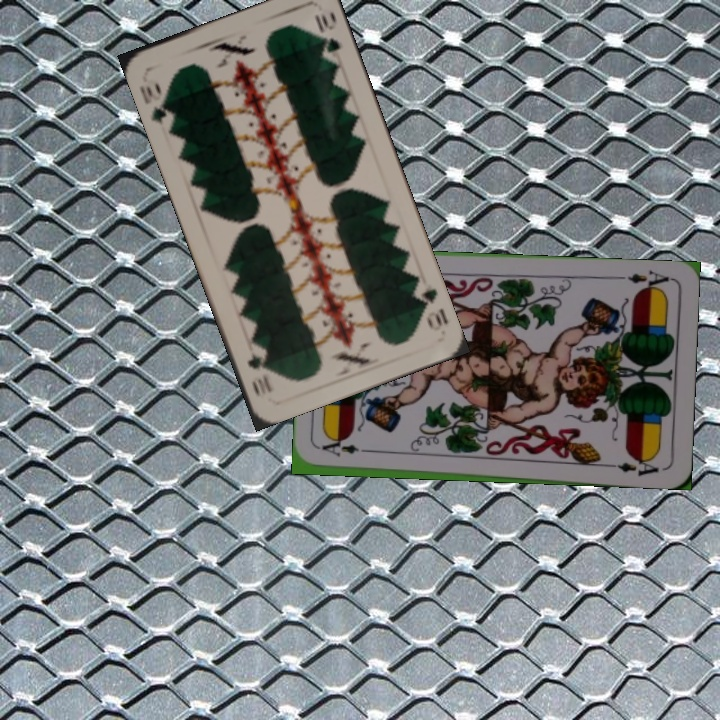EA: (614, 267, 673, 294), (318, 440, 376, 459)
G10: (410, 280, 451, 334), (136, 78, 177, 128)
